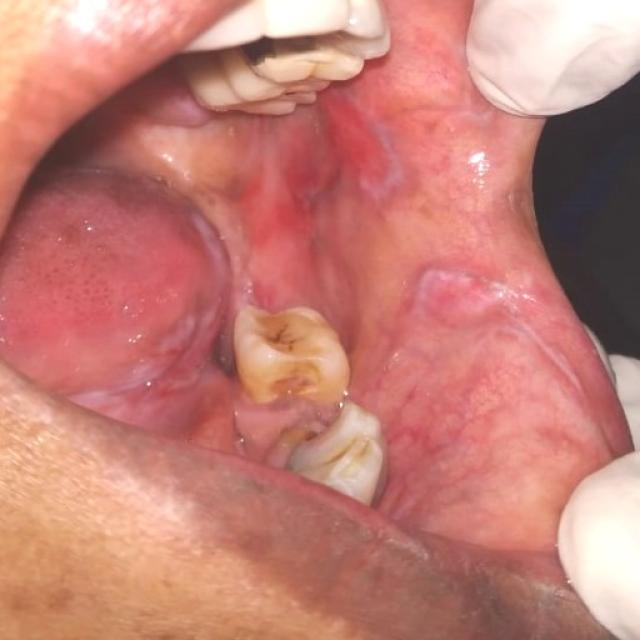leukoplakia-like-detection: (68, 192, 260, 439), (207, 93, 442, 238), (378, 240, 571, 397)
processing_area: (0, 4, 618, 548)
